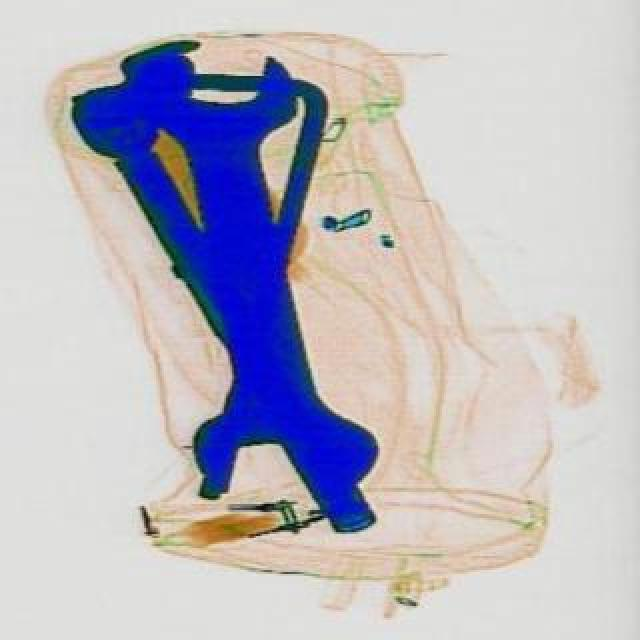scissors: (128, 46, 388, 514)
